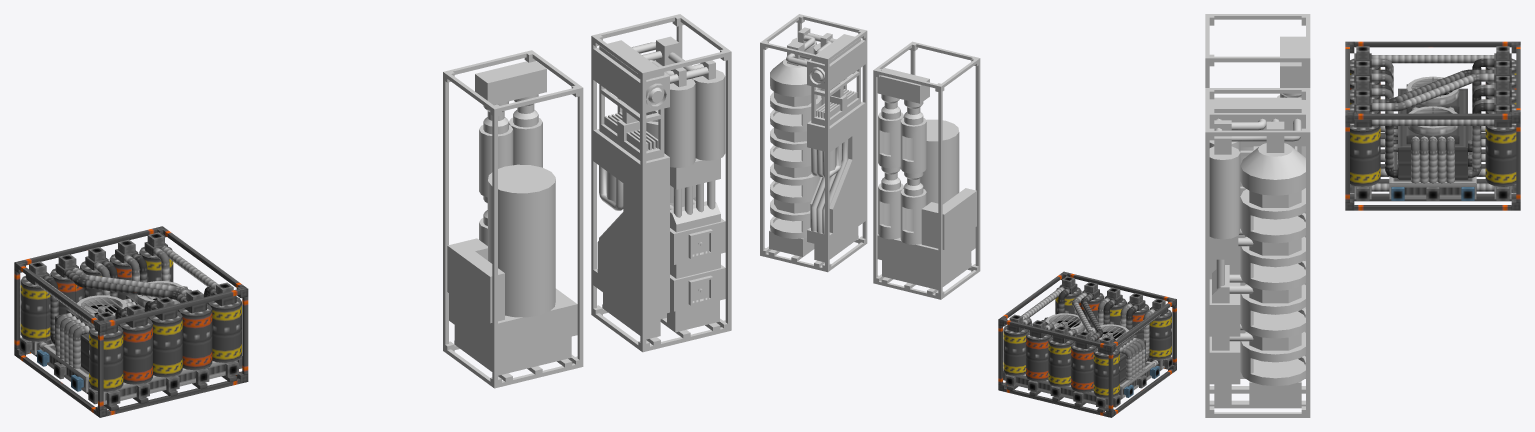
File: chemical_factory.obj
3 renders of one model, left to right at view 1: azimuth 30°, elevation 25°; view 2: azimuth 150°, elevation 25°; view 3: azimuth 270°, elevation 25°, orthographic. The views are drawn at different scales.
Visible parts, largest first — view 1: Plane.001, Base, Frame; view 2: Plane.001, Base, Frame; view 3: Plane.001, Base, Frame.
Boxes of the visible parts, x1,y1,x2,y2 form: Plane.001: (443, 14, 731, 388); Base: (14, 232, 248, 417); Frame: (14, 226, 248, 409); Plane.001: (760, 14, 980, 299); Base: (998, 276, 1176, 417); Frame: (998, 271, 1176, 411); Plane.001: (1205, 14, 1310, 417); Base: (1345, 46, 1520, 210); Frame: (1345, 41, 1520, 202).
Bounding box in the file's own units: 19 × 9 × 9.
